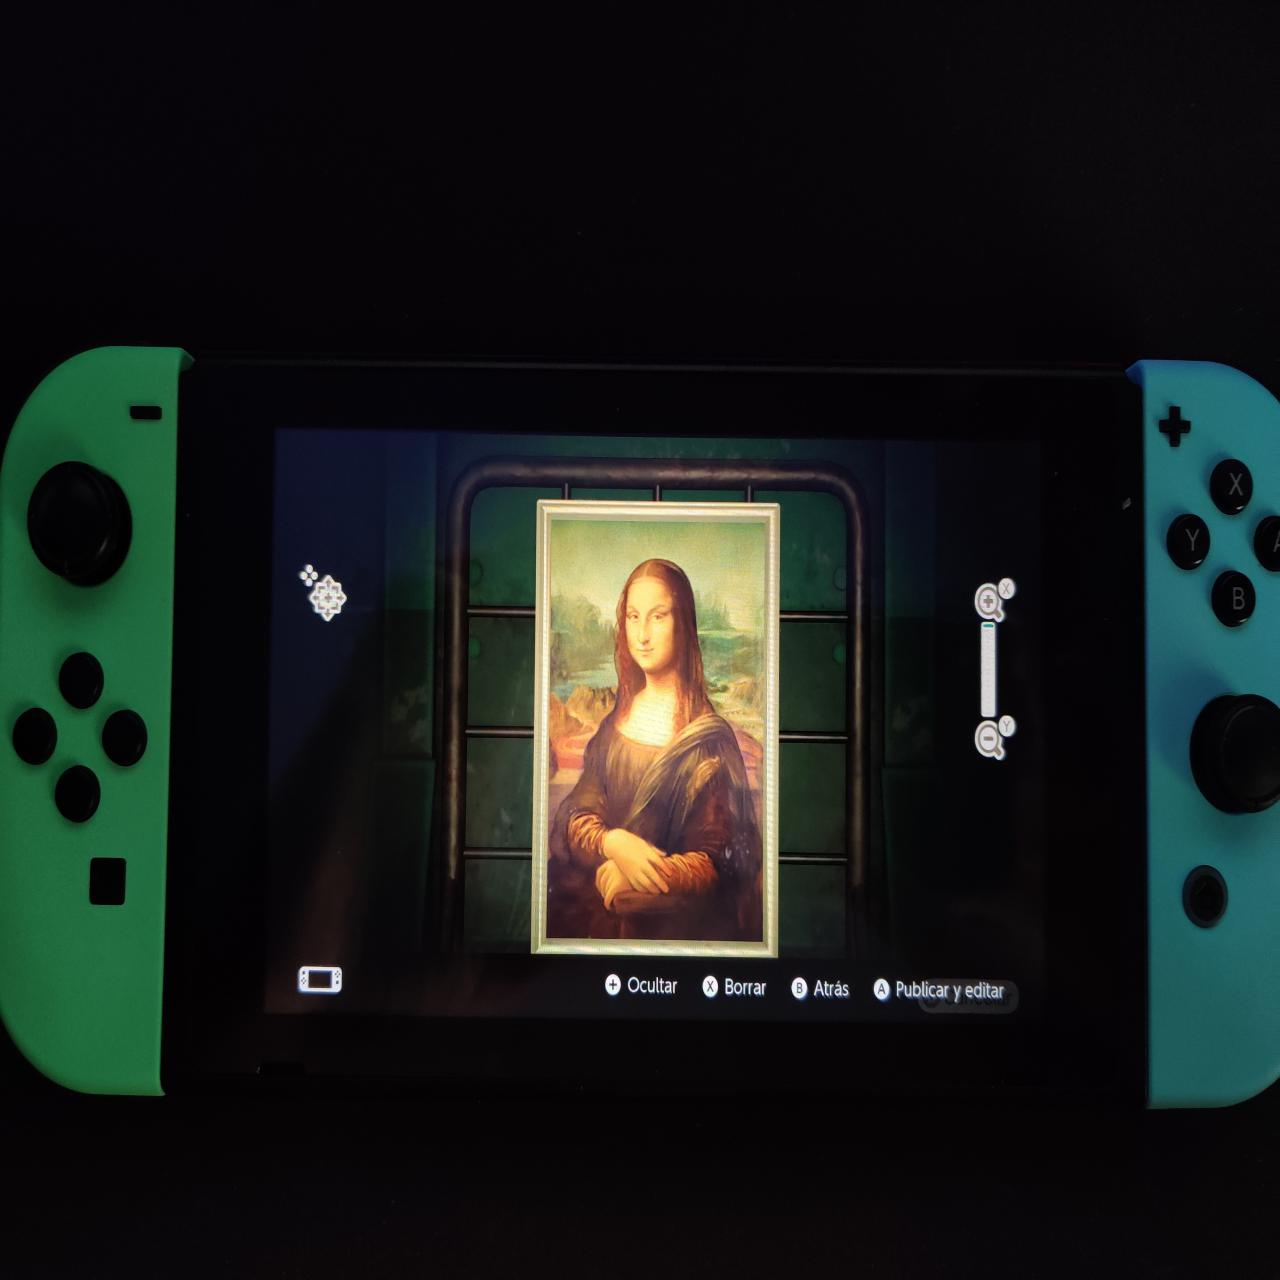MonaLisaFake: (549, 518, 765, 942)
